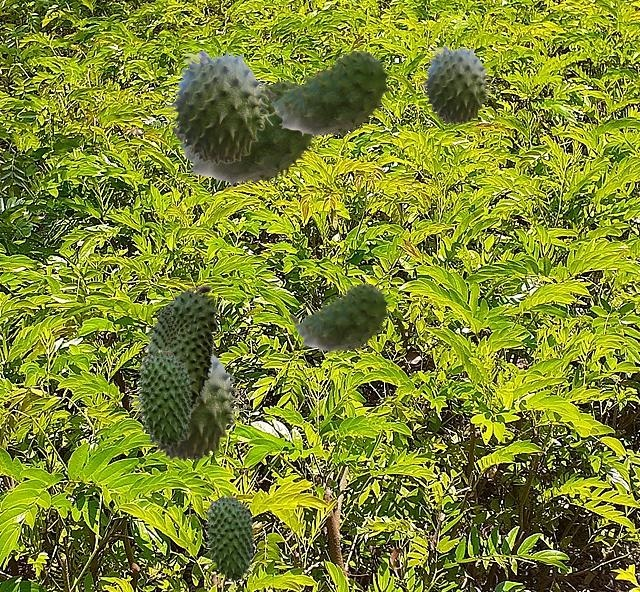guyabano: (171, 80, 316, 189), (164, 48, 278, 164), (129, 354, 249, 461), (264, 50, 390, 140), (143, 285, 217, 410), (289, 283, 389, 355), (418, 44, 497, 124), (137, 348, 192, 446), (205, 494, 254, 580)
